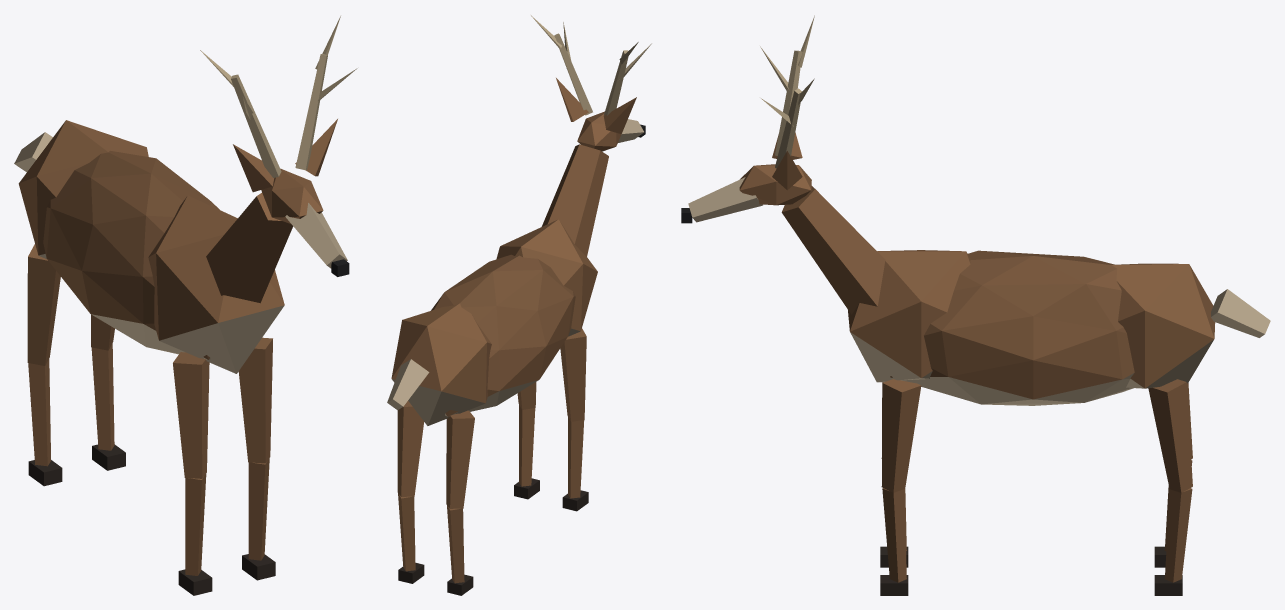
Rendered from deer.glb.
3 renders of one model, left to right at view 1: azimuth 30°, elevation 25°; view 2: azimuth 150°, elevation 25°; view 3: azimuth 270°, elevation 25°, orthographic. The views are drawn at different scales.
Parts seen in each view (by area): view 1: deer; view 2: deer; view 3: deer.
Boxes of the visible parts, <box> form: deer: <box>14,16,357,595</box>; deer: <box>387,15,651,595</box>; deer: <box>681,15,1270,595</box>.
Bounding box in the file's own units: 0.54 × 2.1 × 2.11.
